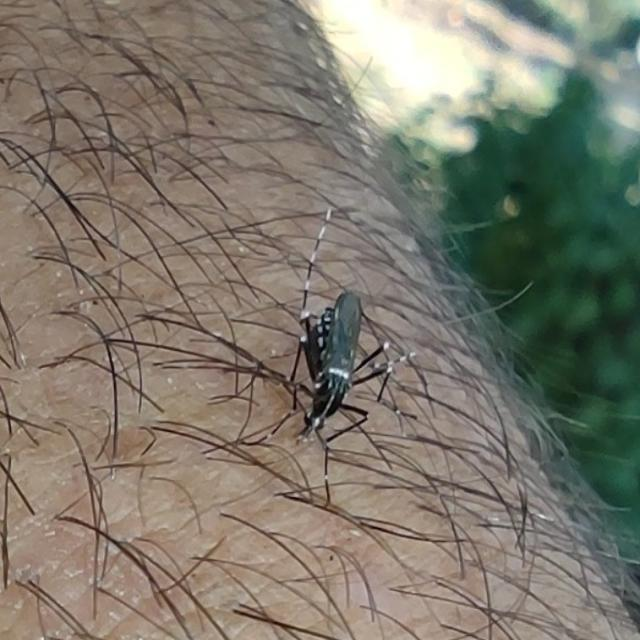albopictus: (115, 172, 472, 604)
